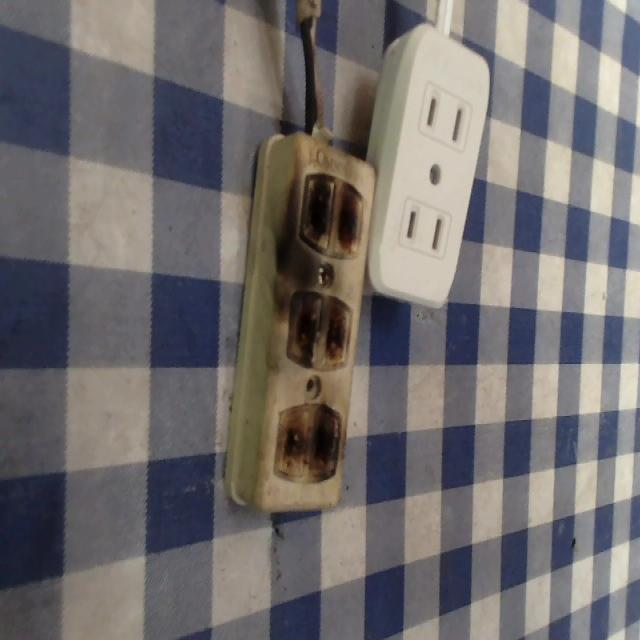-: (292, 165, 363, 260), (275, 404, 345, 488), (289, 284, 354, 369)
